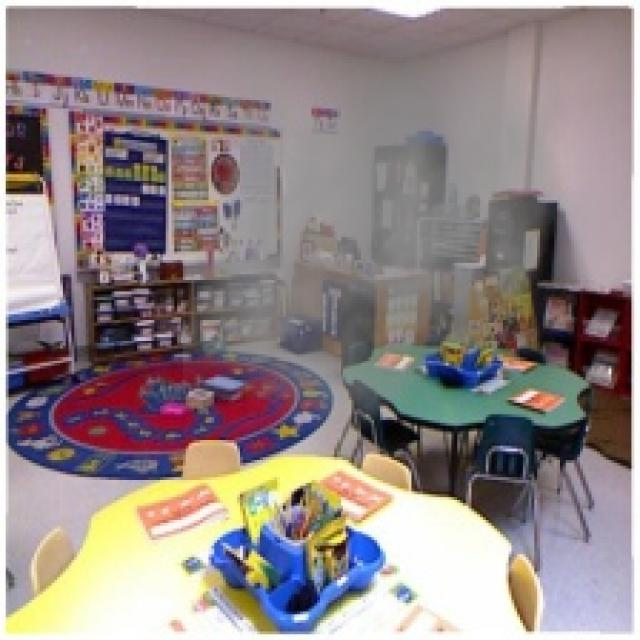smoke: (183, 34, 568, 446)
